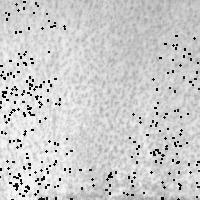pitted_surface: (1, 1, 198, 199), (129, 102, 187, 162), (13, 138, 70, 198), (0, 55, 48, 114), (152, 34, 200, 90), (14, 51, 59, 107), (0, 76, 44, 132), (161, 145, 200, 200), (0, 161, 47, 200), (5, 0, 64, 31), (79, 169, 134, 200), (92, 171, 150, 200), (0, 130, 28, 187)
